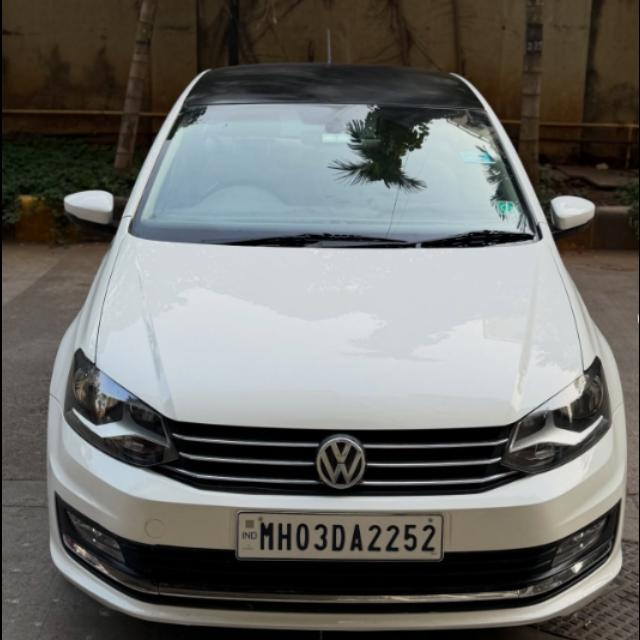number-plate: (233, 509, 443, 561)
vehicles: (51, 30, 627, 627)
